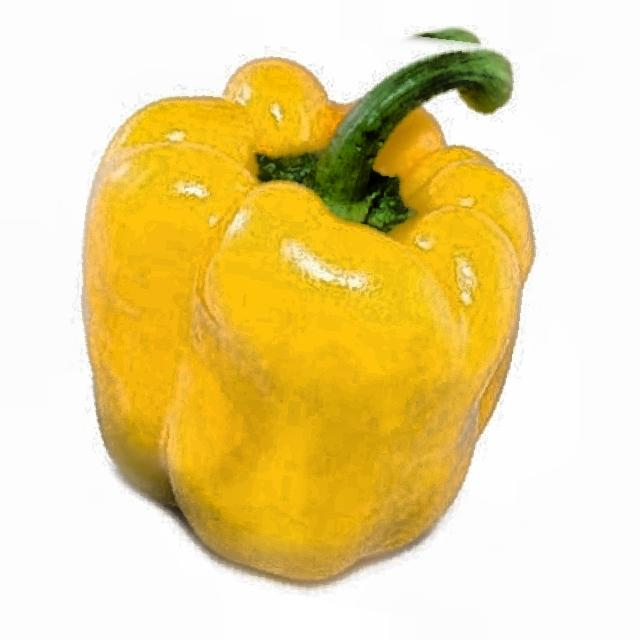capsicum: (30, 9, 567, 613)
